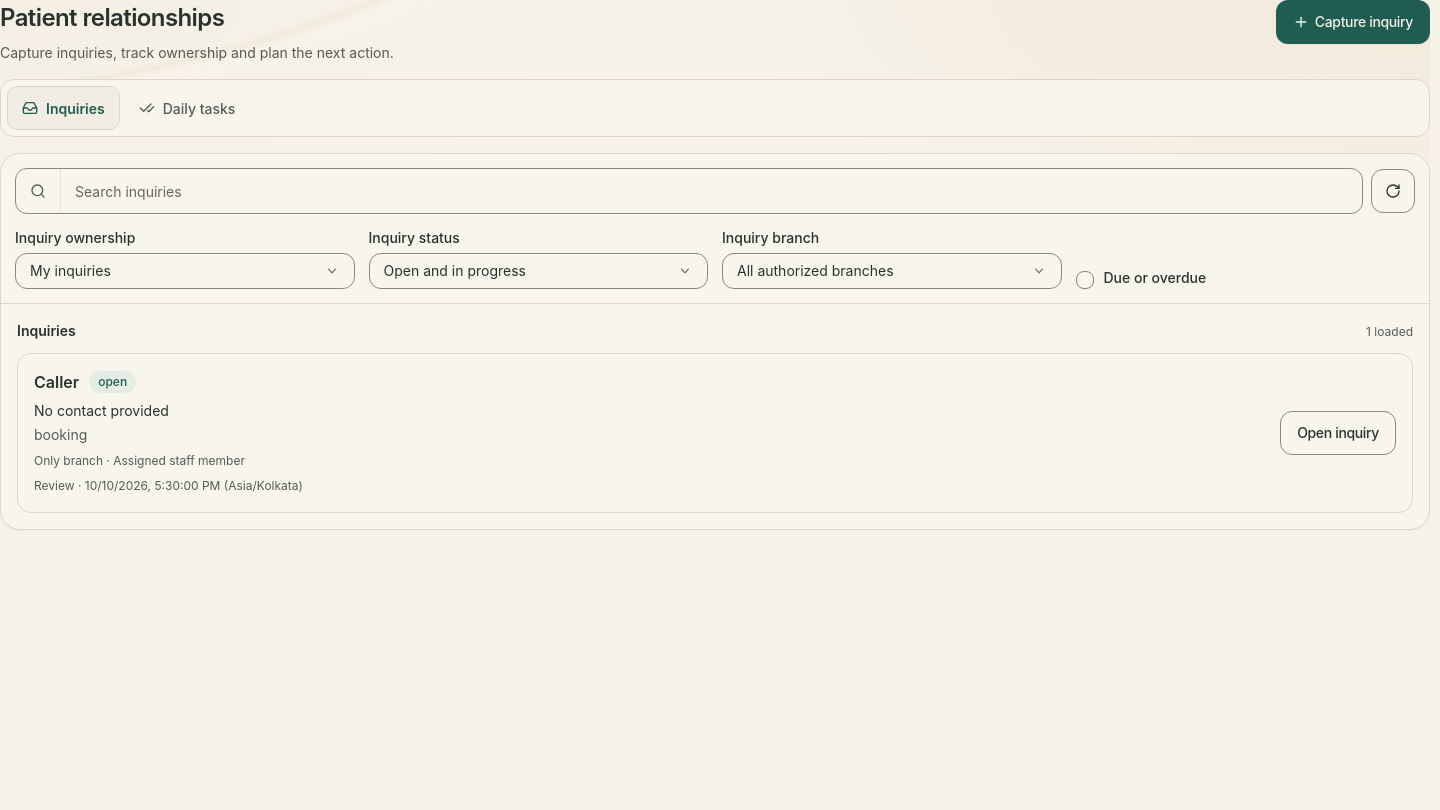
Inquiry workspace › uses the displayed revision for close and shows a server conflict without inventing success
The width and height of the screenshot is (1440, 810).
Click the button "Open inquiry".
click(1338, 433)  # box x1=1280 y1=411 x2=1396 y2=455
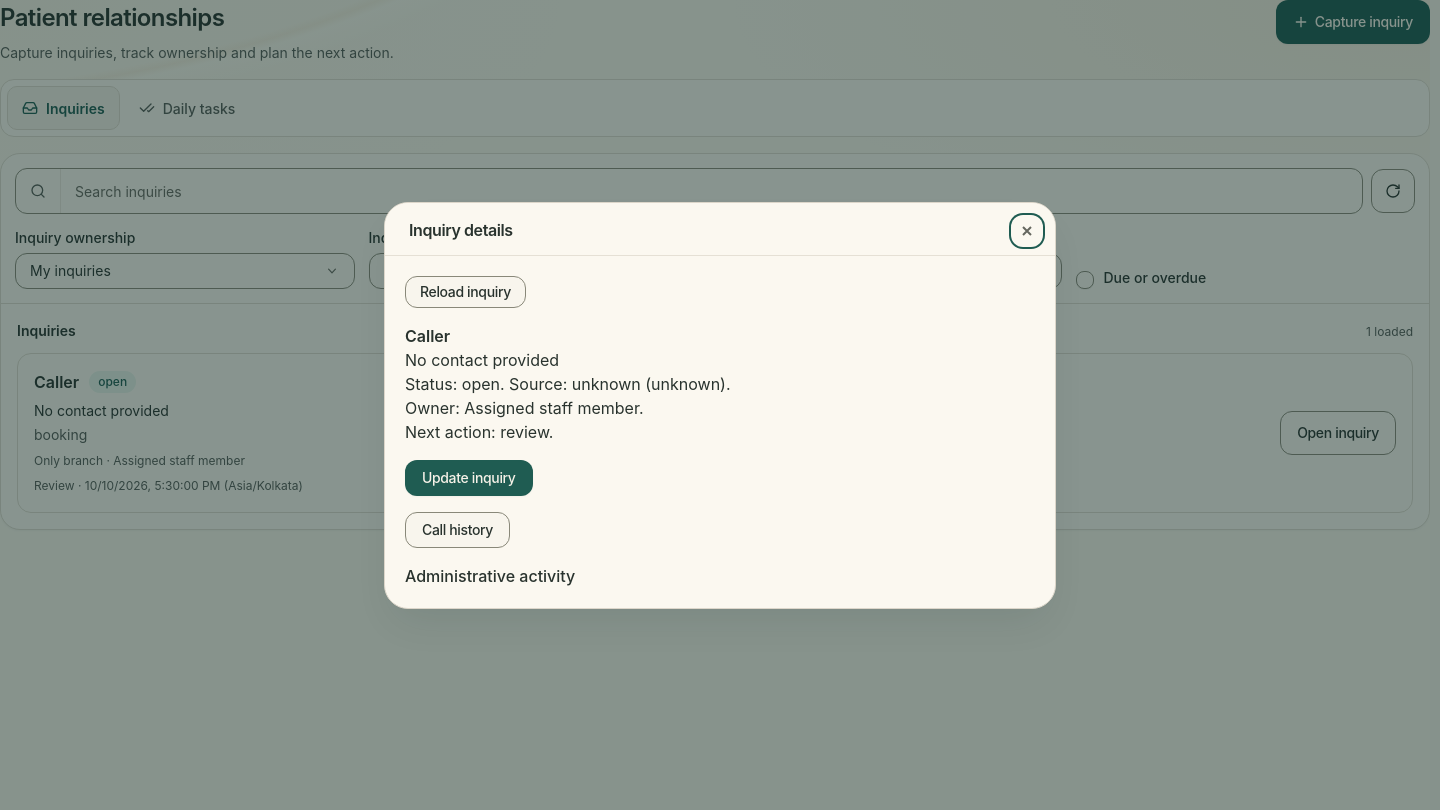
Click the button "Update inquiry".
click(469, 478)  # box x1=405 y1=460 x2=532 y2=496
(page scrolled)
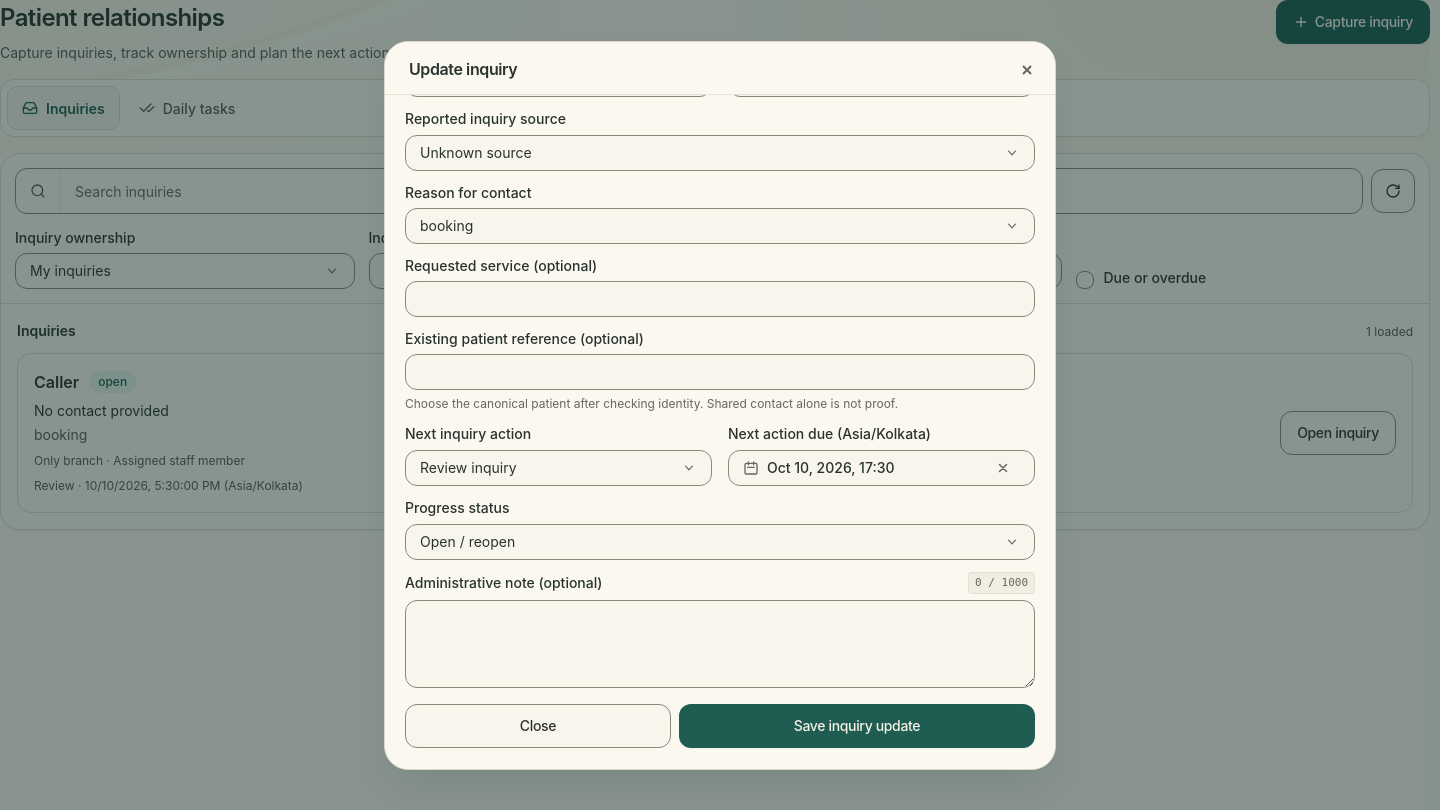
Expected: the button "Save inquiry update" is enabled, x1=679 y1=704 x2=1035 y2=748
Click the dropdown named "Progress status".
click(468, 541)  # box x1=405 y1=524 x2=1035 y2=560
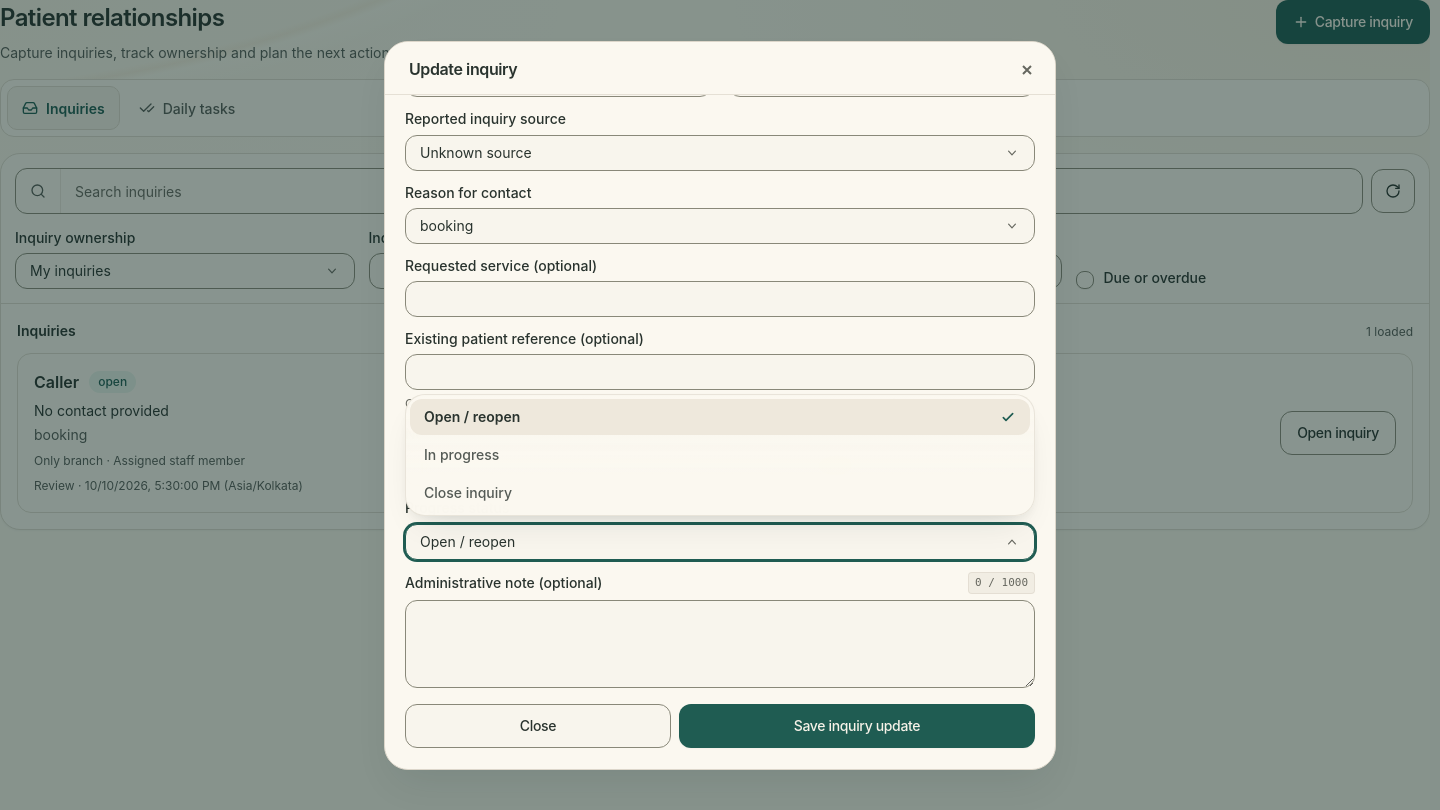
Click the option "Close inquiry".
click(468, 492)  # box x1=410 y1=474 x2=1030 y2=510
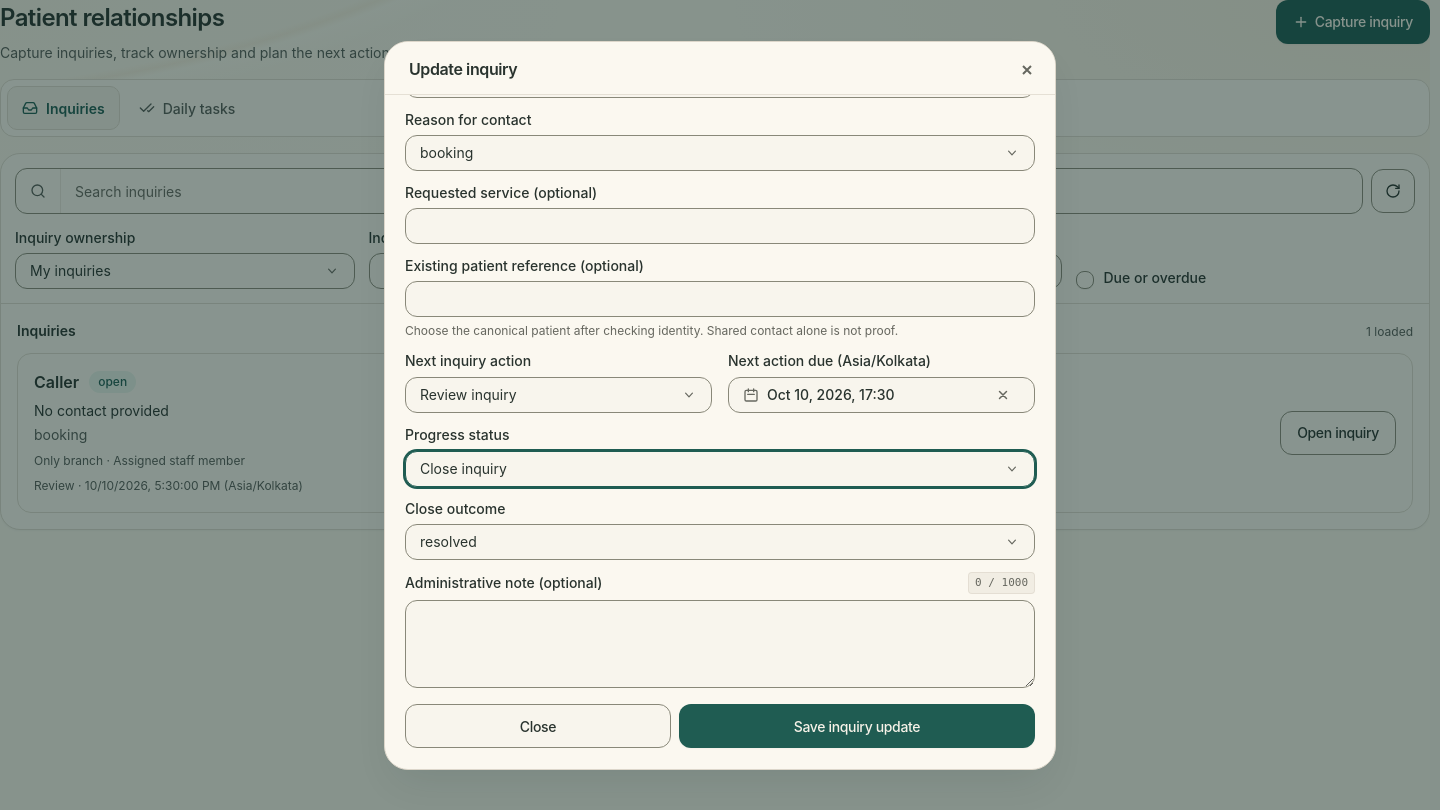
Click the button "Save inquiry update".
click(857, 726)  # box x1=679 y1=704 x2=1035 y2=748
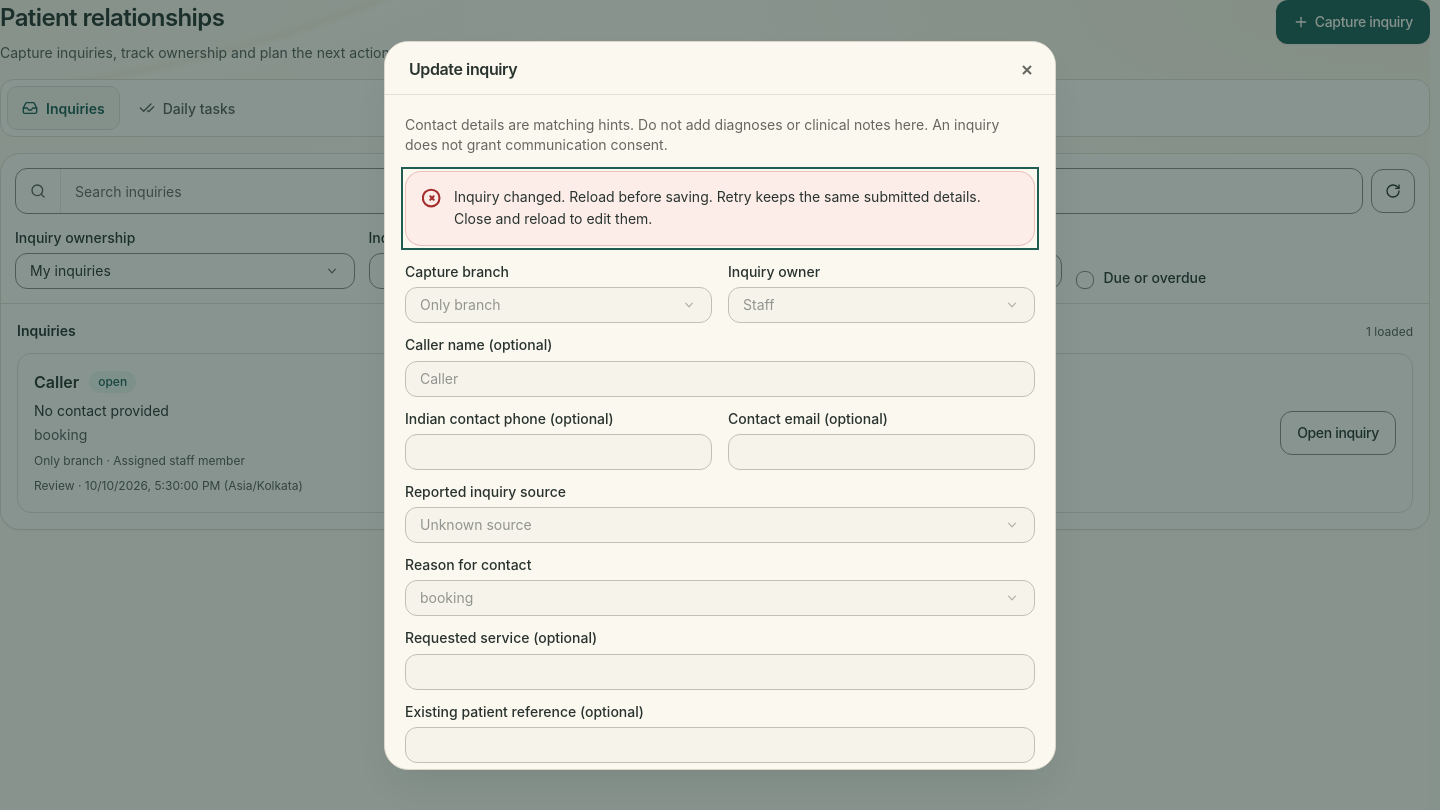
Expected: the text "Inquiry changed. Reload before saving" is shown, x1=454 y1=188 x2=713 y2=204
